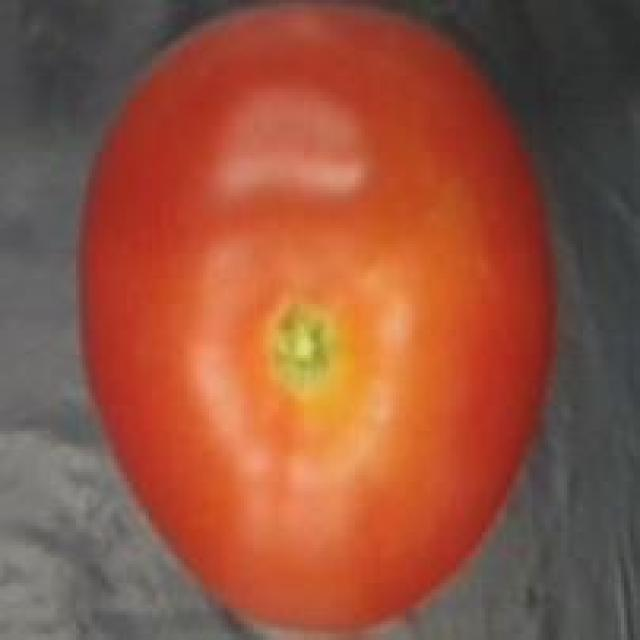ripe tomato: (67, 0, 567, 640)
